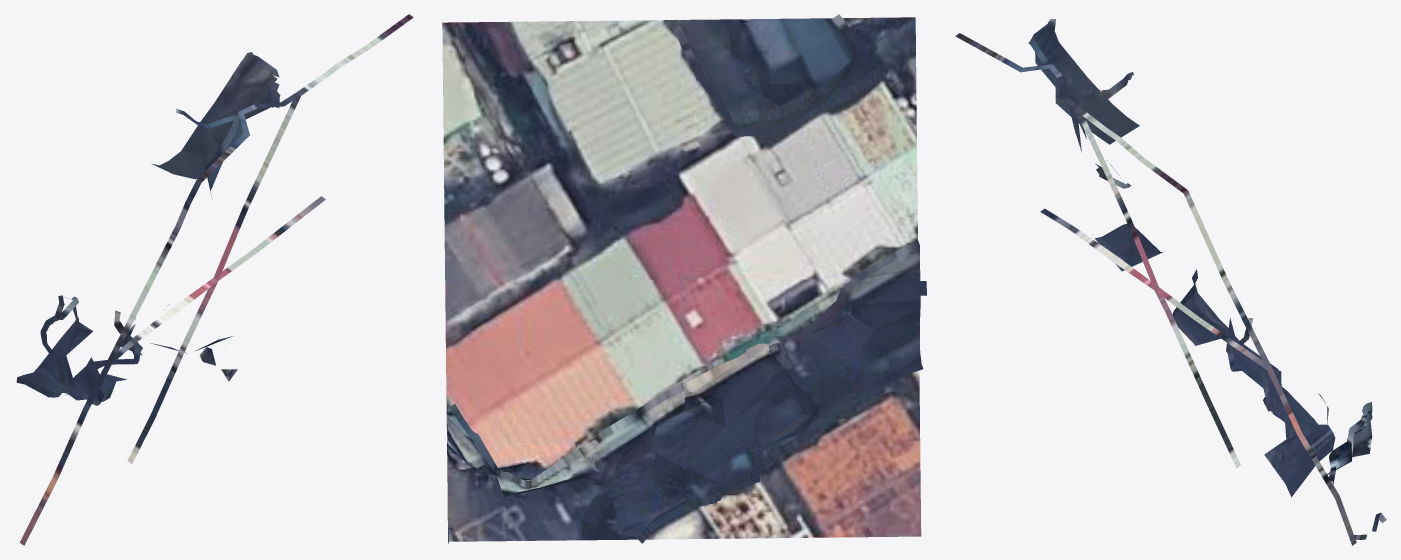
The picture shows the model from 3 angles, left to right: view 1: azimuth 30°, elevation 25°; view 2: azimuth 150°, elevation 25°; view 3: azimuth 270°, elevation 25°; orthographic projection. The views are drawn at different scales.
Size of the model in its own units: 38.32 by 37.62 by 34.25.
Materials: 1 (1 with a texture image).
